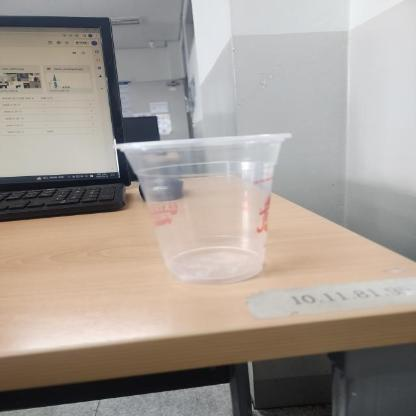Plastic Cup: (113, 133, 294, 285)
